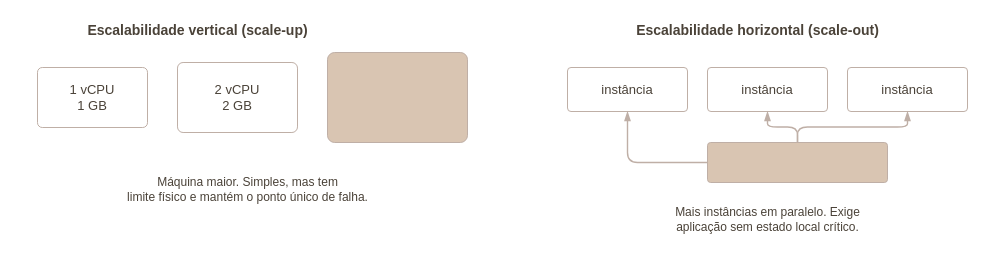
Some shapes in this 985 by 258 pixel diagram are drawn without their labels. The shapes that lost their labels are listed below. From the top down, each one's centre as x and y in pixels, then its label:
At pixel 397 97: "4 vCPU 8 GB".
At pixel 797 162: "balanceador".
